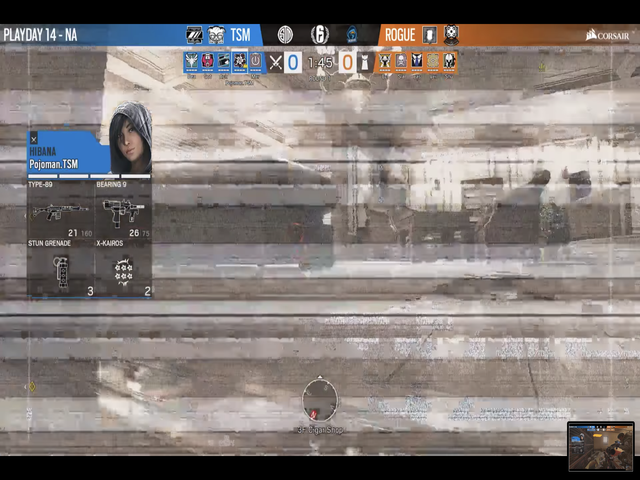0_blue: (283, 53, 302, 72)
